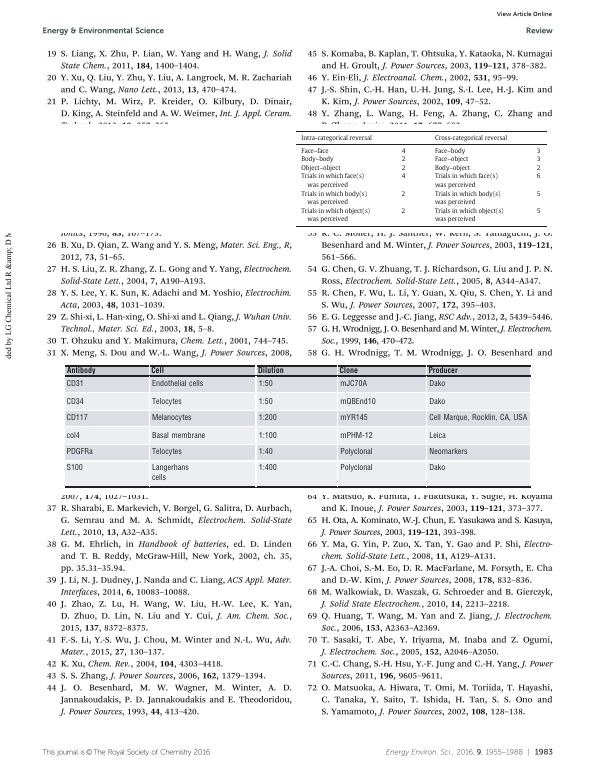borderless: (65, 364, 531, 486), (295, 129, 547, 226)
cell: (300, 207, 371, 224), (434, 207, 505, 224), (300, 189, 368, 206), (434, 189, 502, 206), (300, 172, 365, 189), (434, 172, 499, 189), (428, 413, 528, 423), (150, 463, 189, 483), (434, 134, 508, 142), (300, 134, 373, 142), (150, 431, 206, 440), (150, 379, 204, 388), (150, 413, 192, 423), (428, 447, 468, 457), (339, 447, 373, 457), (339, 463, 373, 473), (300, 164, 342, 172), (339, 397, 376, 406), (150, 447, 182, 457), (300, 155, 335, 164), (434, 155, 469, 164), (65, 366, 96, 376), (427, 366, 458, 376), (339, 431, 373, 440), (434, 164, 471, 172), (339, 413, 368, 423), (150, 397, 182, 406), (256, 366, 284, 376), (65, 447, 93, 457), (434, 147, 466, 155), (339, 379, 367, 388), (300, 147, 330, 155), (65, 413, 88, 423), (338, 366, 358, 376), (257, 413, 277, 423), (257, 463, 277, 473), (257, 431, 277, 440), (65, 463, 83, 473), (428, 463, 446, 473), (65, 379, 84, 388), (65, 397, 84, 406), (428, 379, 446, 388), (428, 397, 446, 406), (428, 431, 446, 440), (257, 447, 273, 457), (257, 379, 273, 388), (257, 397, 273, 406), (150, 366, 164, 376), (65, 431, 80, 440), (536, 155, 542, 164), (536, 172, 542, 181), (536, 189, 542, 198), (536, 147, 542, 155), (536, 164, 542, 172), (536, 207, 542, 215), (401, 155, 406, 164), (401, 172, 406, 181), (401, 189, 406, 198), (401, 147, 406, 155), (401, 164, 406, 172), (401, 207, 406, 215)
